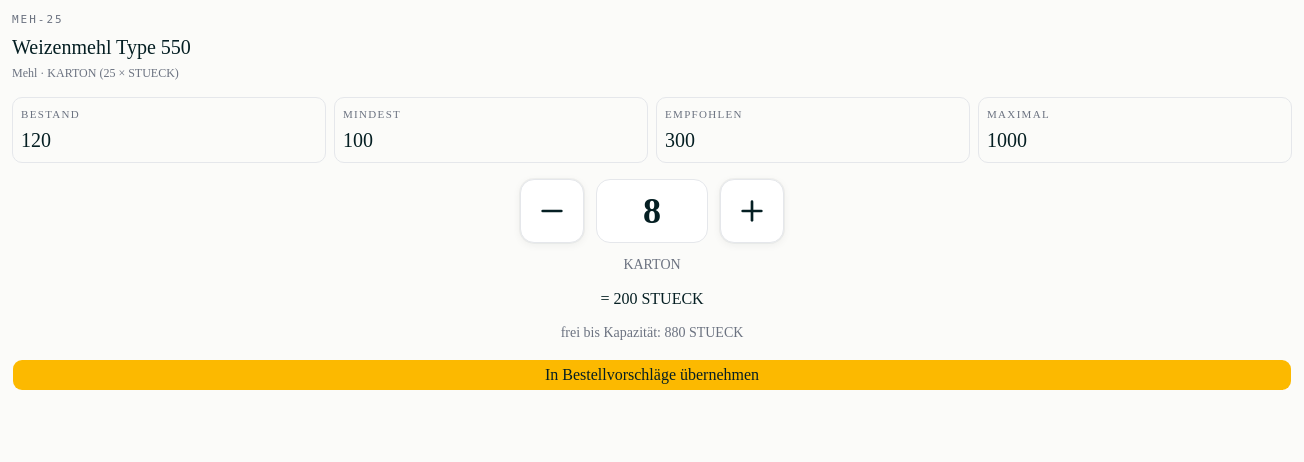
Test: ArticleOrderCard › Netzfehler (fetch reject): Meldung, Menge bleibt
Click the button "In Bestellvorschläge übernehmen" at (652, 375), box left=12, top=359, right=1292, bottom=391
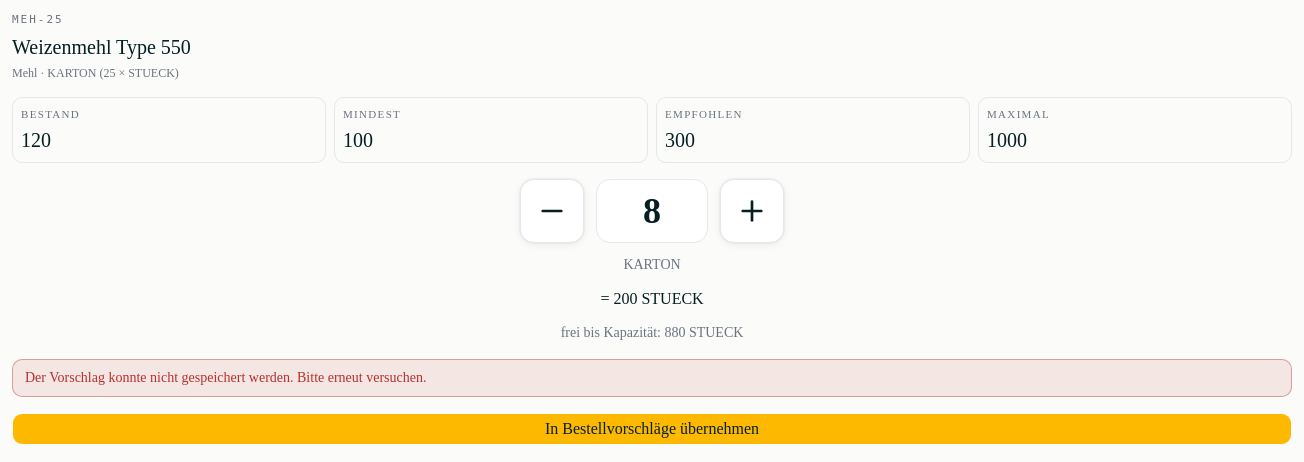
expect the field named "Bestellmenge" holds "8": met, box left=596, top=179, right=708, bottom=243
expect the text "Der Vorschlag konnte nicht gespeichert werden. Bitte erneut versuchen." is shown: met, box left=12, top=359, right=1292, bottom=397
